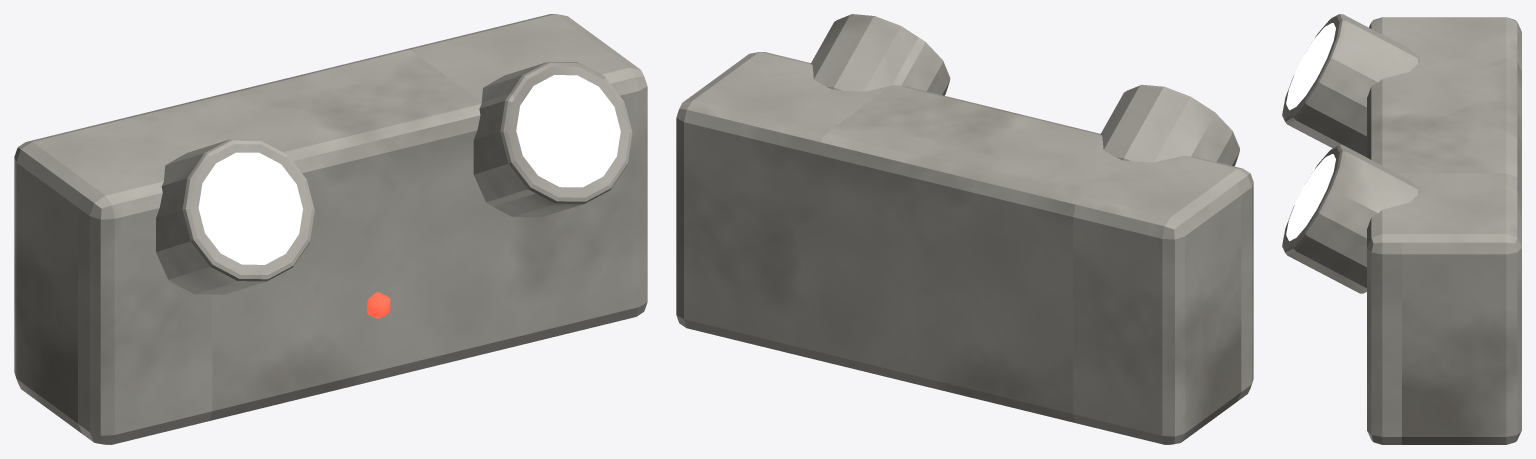
The model's file is U06_emergency_light_box.glb.
3 renders of one model, left to right at view 1: azimuth 30°, elevation 25°; view 2: azimuth 150°, elevation 25°; view 3: azimuth 270°, elevation 25°, orthographic. The views are drawn at different scales.
Parts seen in each view (by area): view 1: U06_emergency_light_box; view 2: U06_emergency_light_box; view 3: U06_emergency_light_box.
Boxes of the visible parts, box(x1,y1,x2,y2) form: U06_emergency_light_box: box(14, 14, 647, 444); U06_emergency_light_box: box(676, 14, 1253, 444); U06_emergency_light_box: box(1282, 14, 1521, 444).
Size of the model in its own units: 0.4 by 0.2039 by 0.1769.
3 materials, 3 textured.
